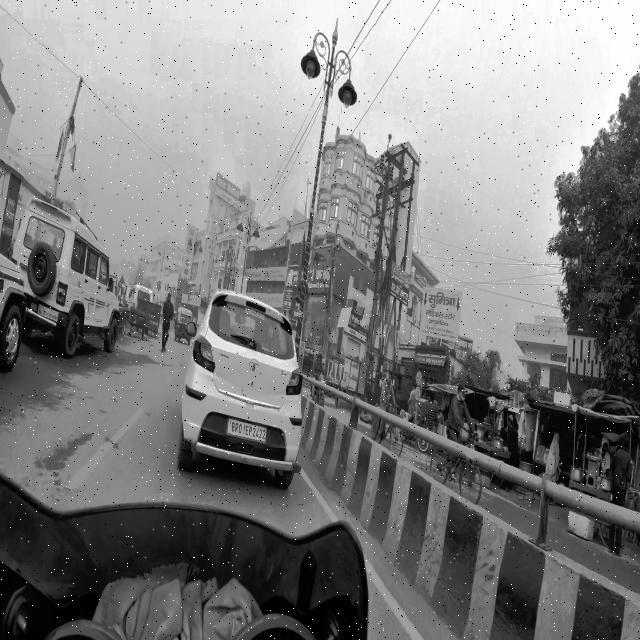Car: (180, 286, 311, 502), (13, 196, 122, 360)
